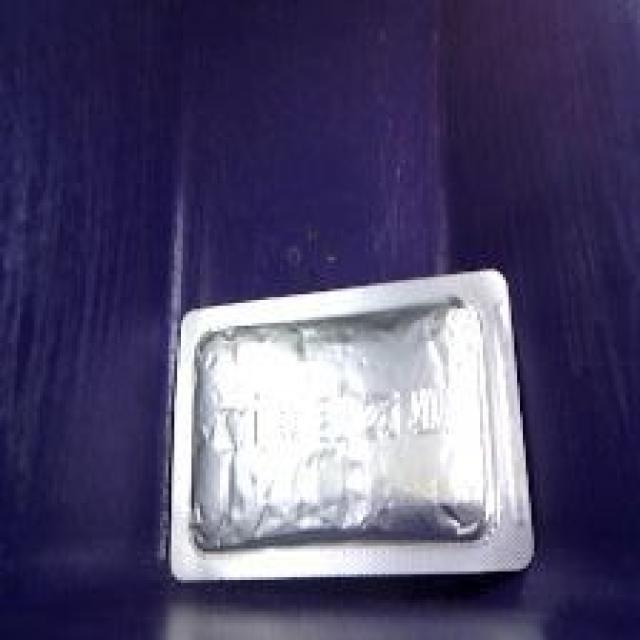med_plate: (160, 258, 547, 592)
